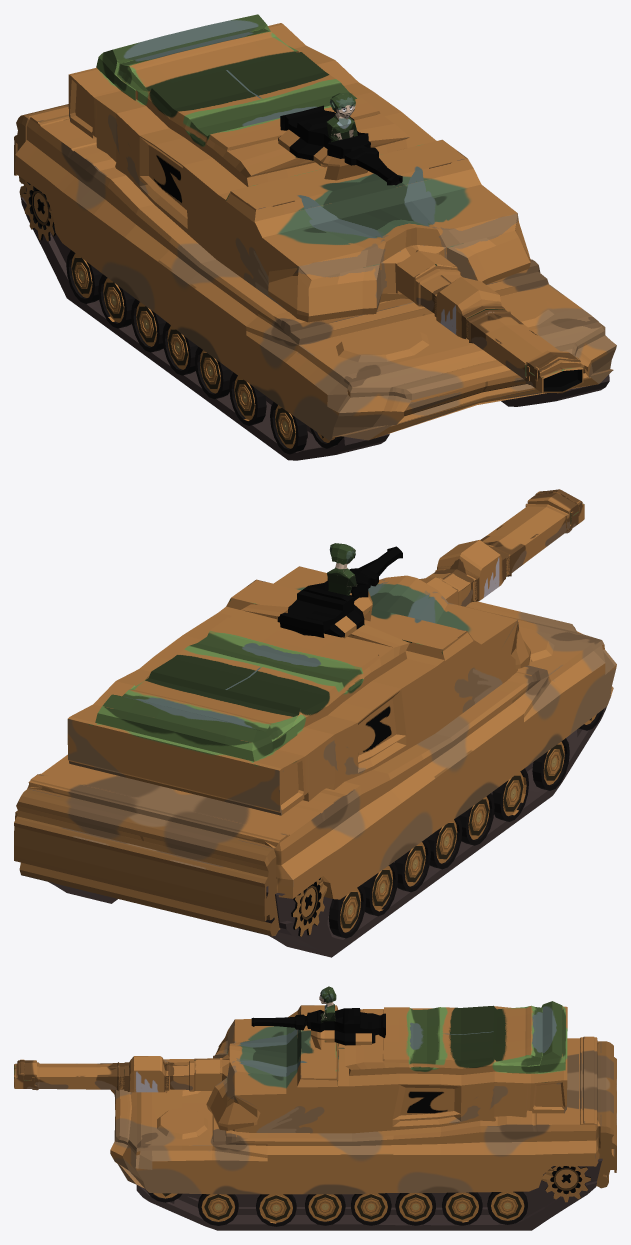
Rendered from Tanque.fbx.
3 renders of one model, top to bottom at view 1: azimuth 30°, elevation 25°; view 2: azimuth 150°, elevation 25°; view 3: azimuth 270°, elevation 25°, orthographic. The views are drawn at different scales.
Parts seen in each view (by area): view 1: Base supeior del tanque, Molde porta ruedas, ruedas, Contorno de ruedas, Ruleman, soldado; view 2: Base supeior del tanque, Molde porta ruedas, ruedas, Contorno de ruedas, Ruleman, soldado; view 3: Base supeior del tanque, Molde porta ruedas, ruedas, Contorno de ruedas, Ruleman, soldado.
Boxes of the visible parts, x1,y1,x2,y2 form: Base supeior del tanque: (68,14,583,393); Molde porta ruedas: (14,104,616,440); ruedas: (66,250,343,454); Contorno de ruedas: (21,187,609,460); Ruleman: (22,181,55,241); soldado: (326,93,357,142); Base supeior del tanque: (67,489,584,815); Molde porta ruedas: (14,601,616,936); ruedas: (328,709,603,938); Contorno de ruedas: (49,706,606,957); Ruleman: (291,877,327,936); soldado: (327,543,357,595); Base supeior del tanque: (14,1001,567,1133); Molde porta ruedas: (110,1036,616,1194); ruedas: (147,1191,527,1226); Contorno de ruedas: (136,1158,602,1230); Ruleman: (541,1166,590,1202); soldado: (319,986,336,1022).
Size of the model in its own units: 1102 by 1049 by 2915.
6 materials, 6 textured.
